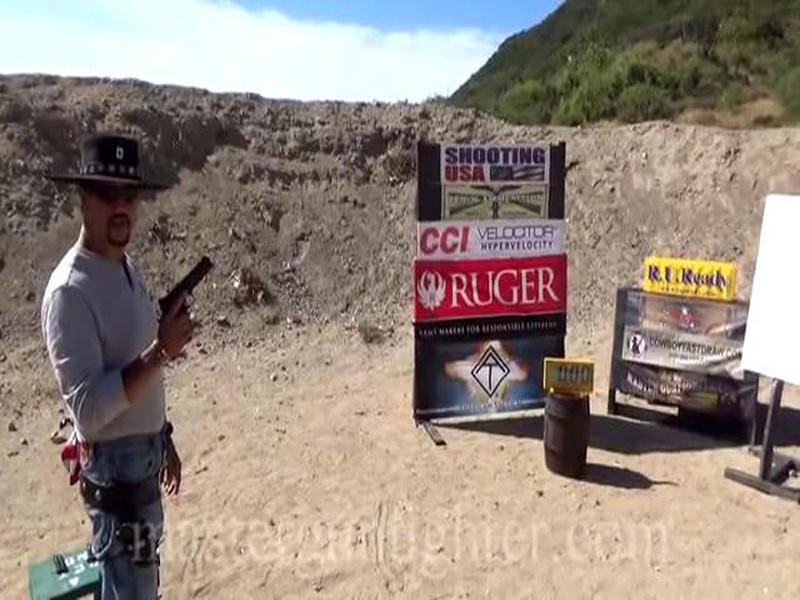Pistola: (152, 254, 224, 350)
